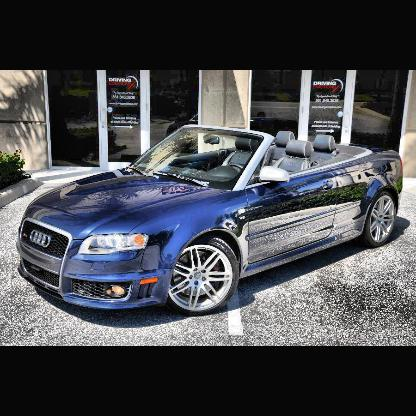Audi RS 4 Convertible 2008: (18, 125, 405, 318)
